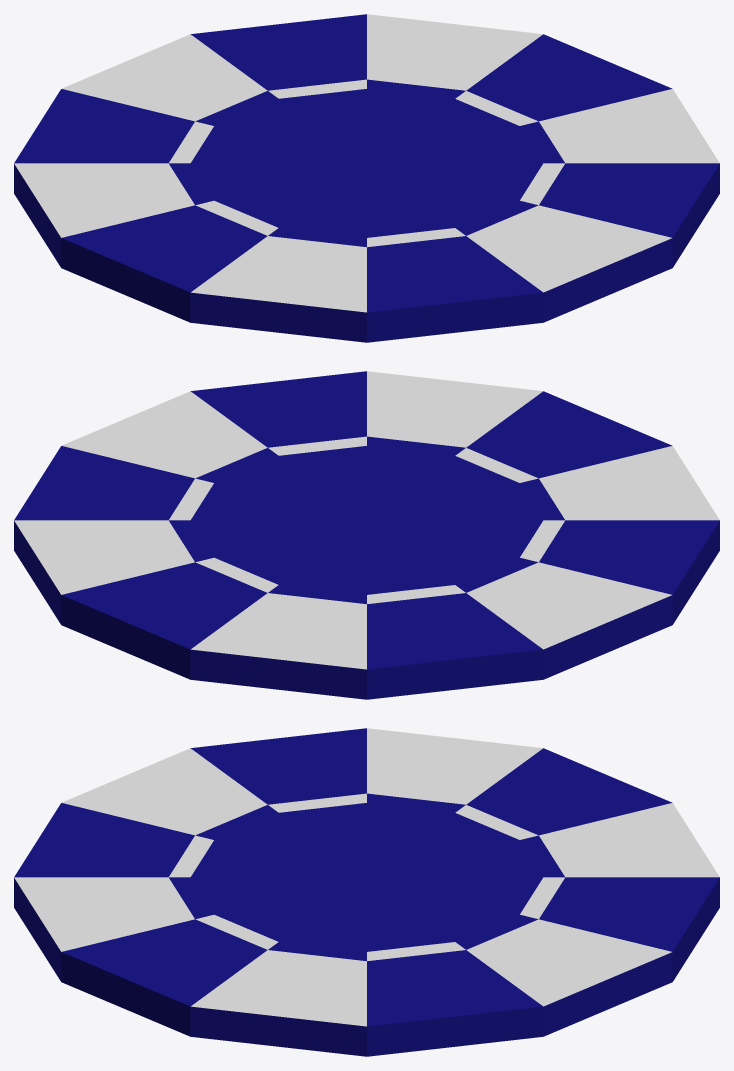
The model's file is Poker Chips - Blue.glb.
3 views of the same model, one above another, from view 1: azimuth 30°, elevation 25°; view 2: azimuth 150°, elevation 25°; view 3: azimuth 270°, elevation 25° (orthographic).
Parts seen in each view (by area): view 1: Circle.001; view 2: Circle.001; view 3: Circle.001.
Part boxes in pixels (box(x1,y1,x2,y2)): Circle.001: box(14, 14, 719, 342); Circle.001: box(14, 371, 719, 699); Circle.001: box(14, 728, 719, 1056).
Bounding box in the file's own units: 0.315 × 0.0149 × 0.315.
